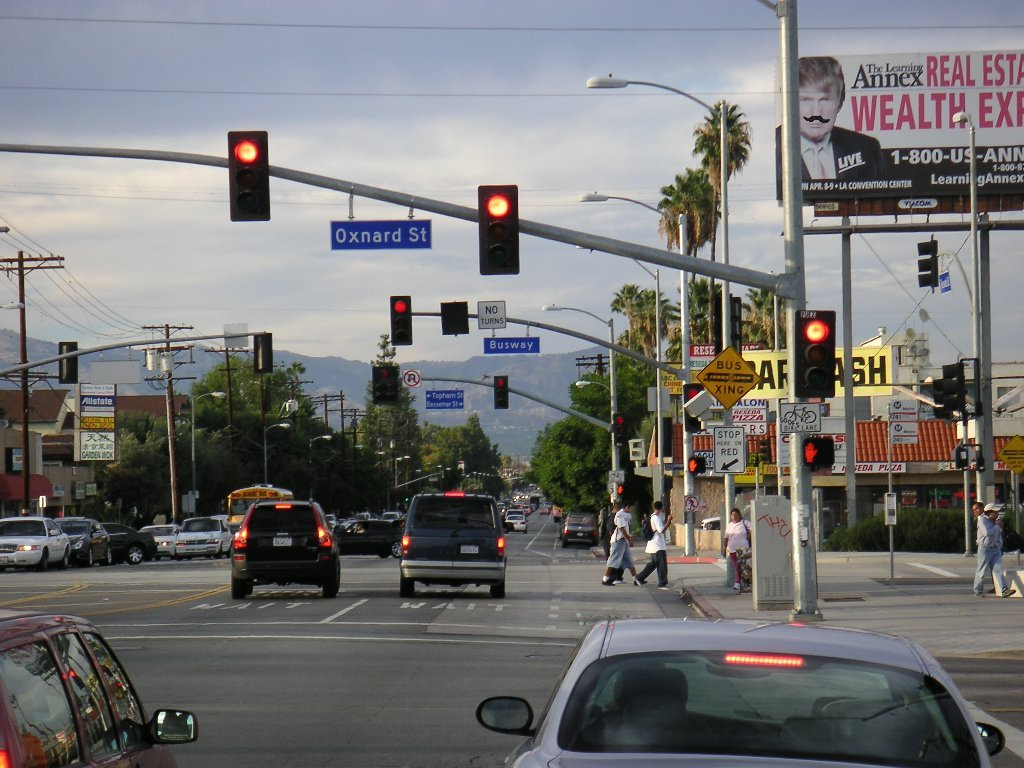traffic_light: (225, 129, 273, 224), (476, 184, 522, 277), (793, 308, 837, 401)
